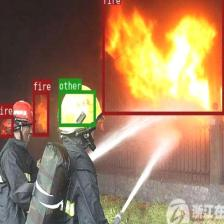fire: (102, 0, 224, 114), (33, 90, 49, 136), (0, 115, 13, 137)
